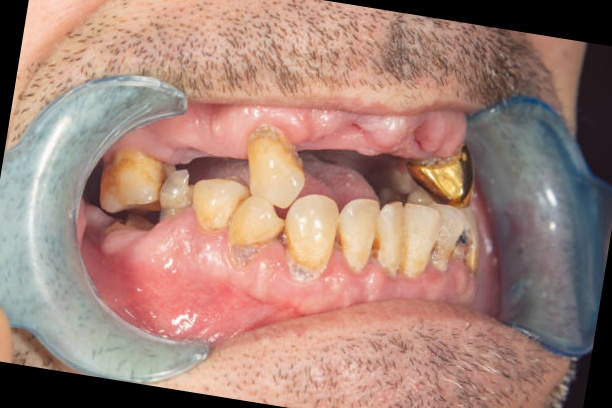Caries: (266, 221, 335, 282), (434, 210, 486, 275)
